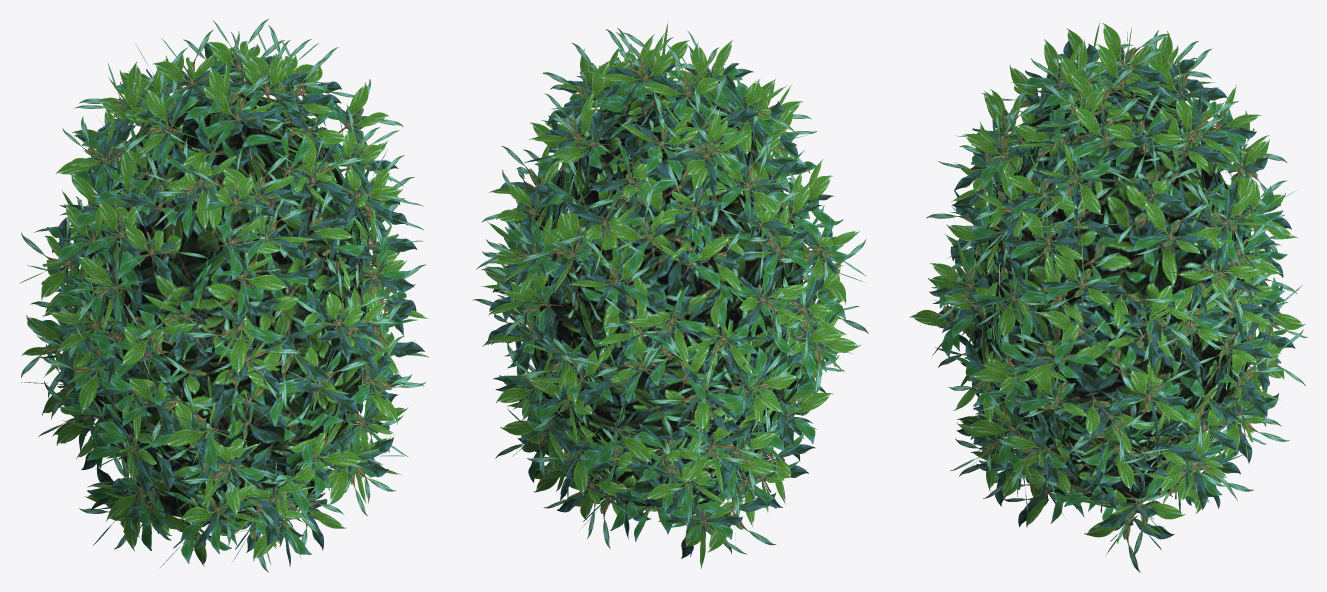
Rendered from hedge-long-round.glb.
3 renders of one model, left to right at view 1: azimuth 30°, elevation 25°; view 2: azimuth 150°, elevation 25°; view 3: azimuth 270°, elevation 25°, orthographic. The views are drawn at different scales.
Bounding box in the file's own units: 27.97 × 38.81 × 28.21.
1 material, 1 textured.
